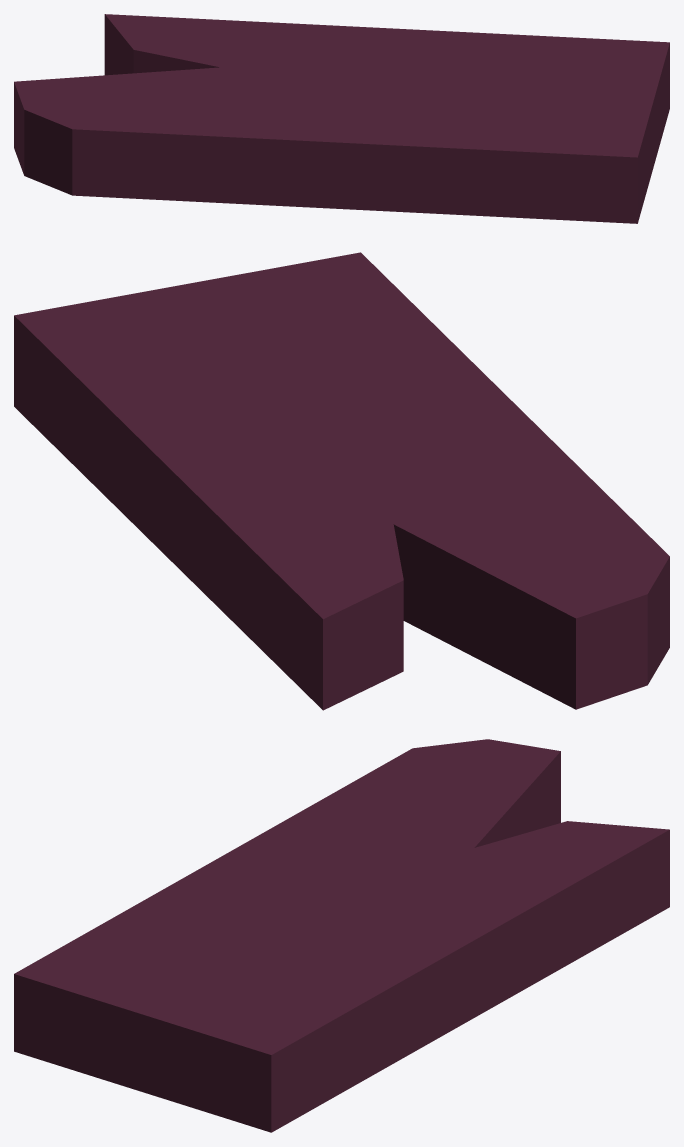
File: plank_003_grp.fbx
3 renders of one model, top to bottom at view 1: azimuth 30°, elevation 25°; view 2: azimuth 150°, elevation 25°; view 3: azimuth 270°, elevation 25°, orthographic. The views are drawn at different scales.
Parts seen in each view (by area): view 1: plank_003_grp; view 2: plank_003_grp; view 3: plank_003_grp.
Boxes of the visible parts, x1,y1,x2,y2 form: plank_003_grp: [14, 14, 669, 223]; plank_003_grp: [14, 252, 669, 710]; plank_003_grp: [14, 739, 669, 1132].
Size of the model in its own units: 279 by 32 by 245.
